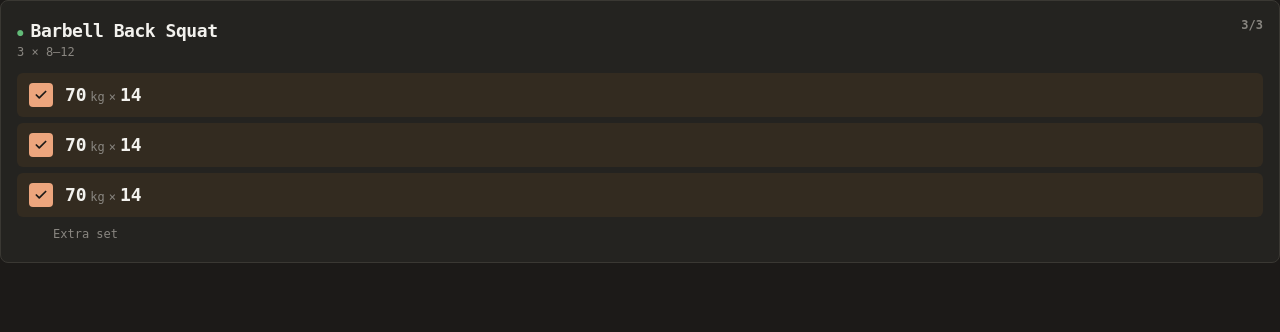
ExerciseCard — Add extra set (Sprint 4 D3b) › tapping the extra-set button renders an additional empty SetRow below the prescribed rows
Expected: the number of buttons "70 kg × 14" is 3, [17,73,1263,117]; [17,123,1263,167]; [17,173,1263,217]
Click the button with aria-label "add extra set" at (86, 234), box [53,223,118,246]
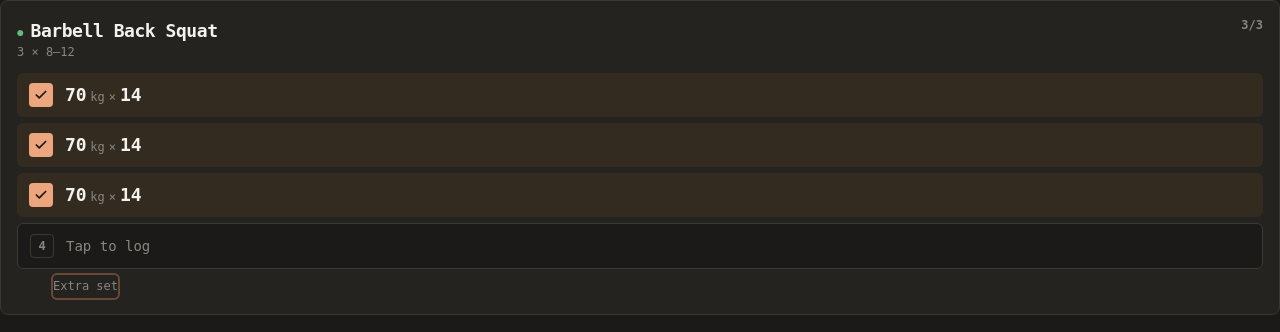
Now the number of buttons "70 kg × 14" is 4, box [17,73,1263,117]; [17,123,1263,167]; [17,173,1263,217]; [17,223,1263,269]
